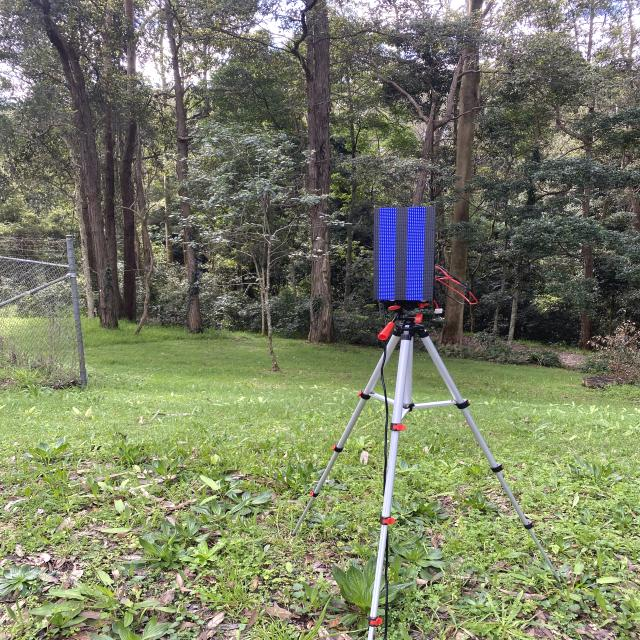matrix: (373, 199, 437, 306)
